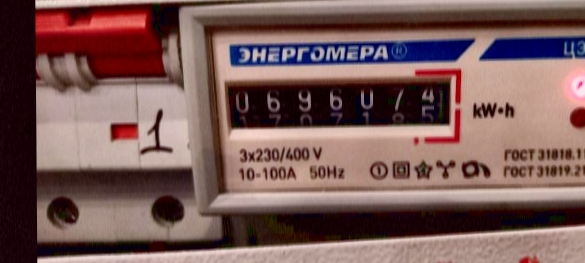0: (233, 87, 251, 113), (359, 83, 375, 110)
4: (421, 82, 435, 103)
5: (421, 104, 435, 123)
6: (264, 86, 282, 111), (328, 84, 344, 111)
7: (390, 84, 406, 110)
9: (296, 86, 313, 112)
screen: (218, 66, 465, 145)
